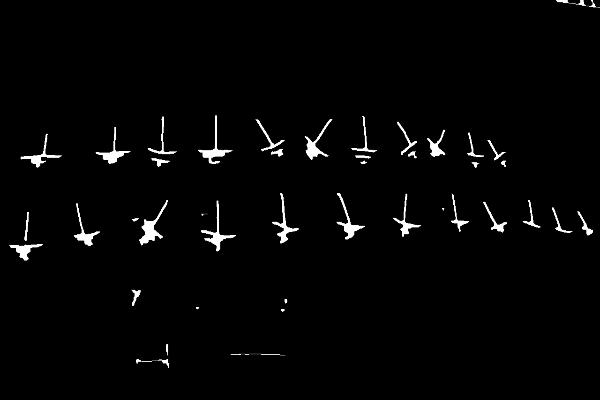ground: (199, 221, 239, 259), (194, 134, 234, 171), (16, 145, 64, 174), (6, 229, 45, 264), (143, 139, 180, 174), (93, 140, 133, 172), (269, 213, 300, 252), (334, 212, 367, 247), (350, 137, 378, 174), (391, 212, 422, 245), (134, 214, 162, 250), (71, 220, 102, 251), (301, 132, 329, 166), (258, 137, 289, 163), (449, 208, 471, 241), (397, 135, 420, 166), (424, 134, 447, 165), (485, 215, 510, 243), (518, 213, 545, 236), (577, 215, 597, 244), (465, 146, 485, 174), (553, 218, 575, 243), (493, 147, 509, 174)
